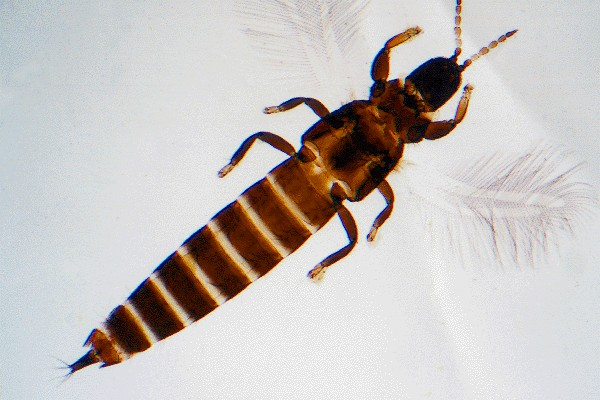Phlaeothripidae: (39, 1, 600, 396)
